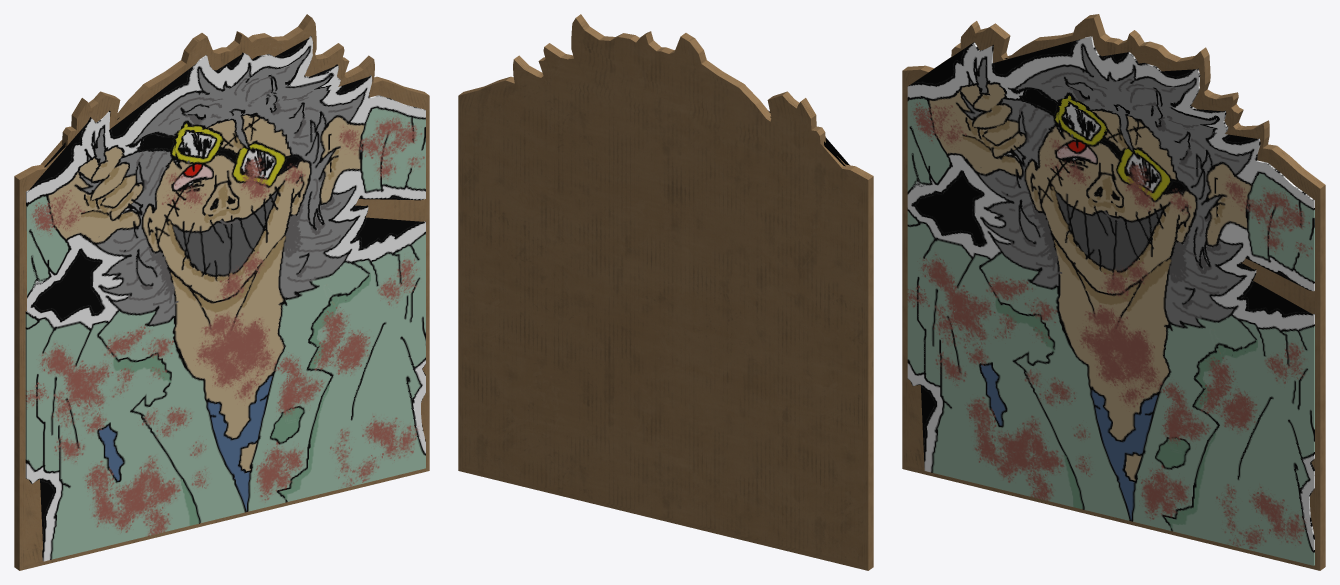
Rendered from Updated Neighbour(Flipped Normals).fbx.
3 renders of one model, left to right at view 1: azimuth 30°, elevation 25°; view 2: azimuth 150°, elevation 25°; view 3: azimuth 330°, elevation 25°, orthographic.
Parts seen in each view (by area): view 1: GDP_Neighbour; view 2: GDP_Neighbour; view 3: GDP_Neighbour.
Part boxes in pixels (left/top/right/bottom): GDP_Neighbour: left=14, top=14, right=429, bottom=570; GDP_Neighbour: left=458, top=14, right=873, bottom=570; GDP_Neighbour: left=902, top=14, right=1325, bottom=570.
Size of the model in its own units: 256 by 292 by 7.06.
